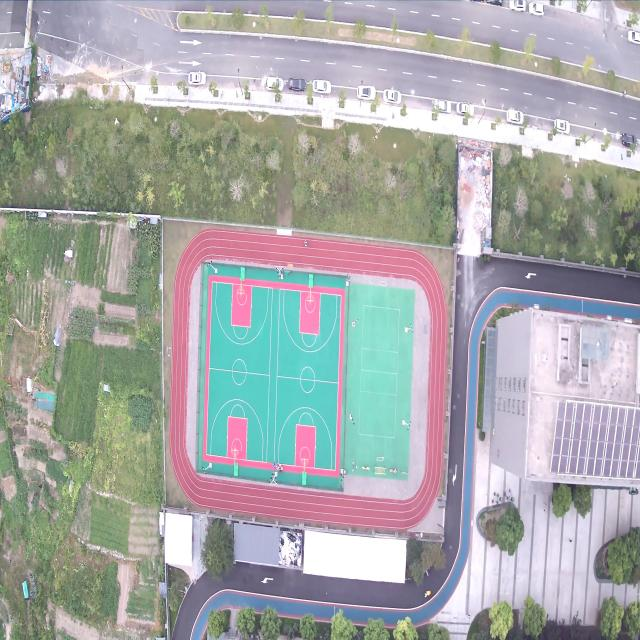drone: (164, 345, 171, 357)
